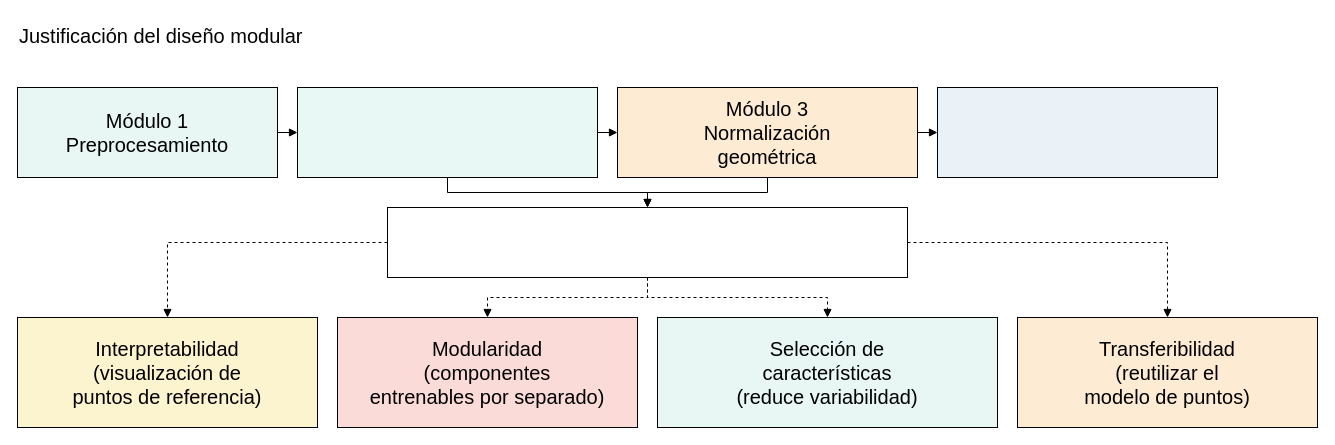
This 1335x445 diagram has some shape labels left out. The shapes that lost their labels are listed below. From the top down, each one's box as (x1, y1, x2, y2) in pixels, then its label:
(296, 86, 598, 178): Módulo 2 Predicción de puntos de referencia
(936, 86, 1218, 178): Módulo 4 Clasificación
(386, 206, 908, 278): Diseño modular
